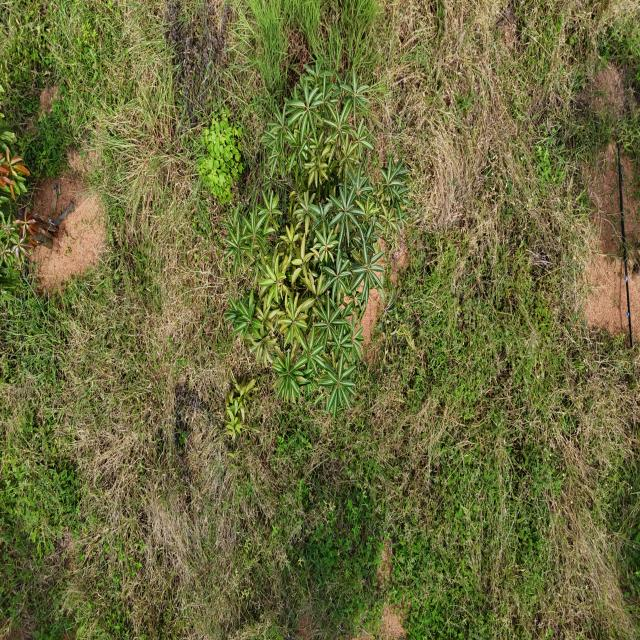mangoTree: (222, 65, 410, 426)
